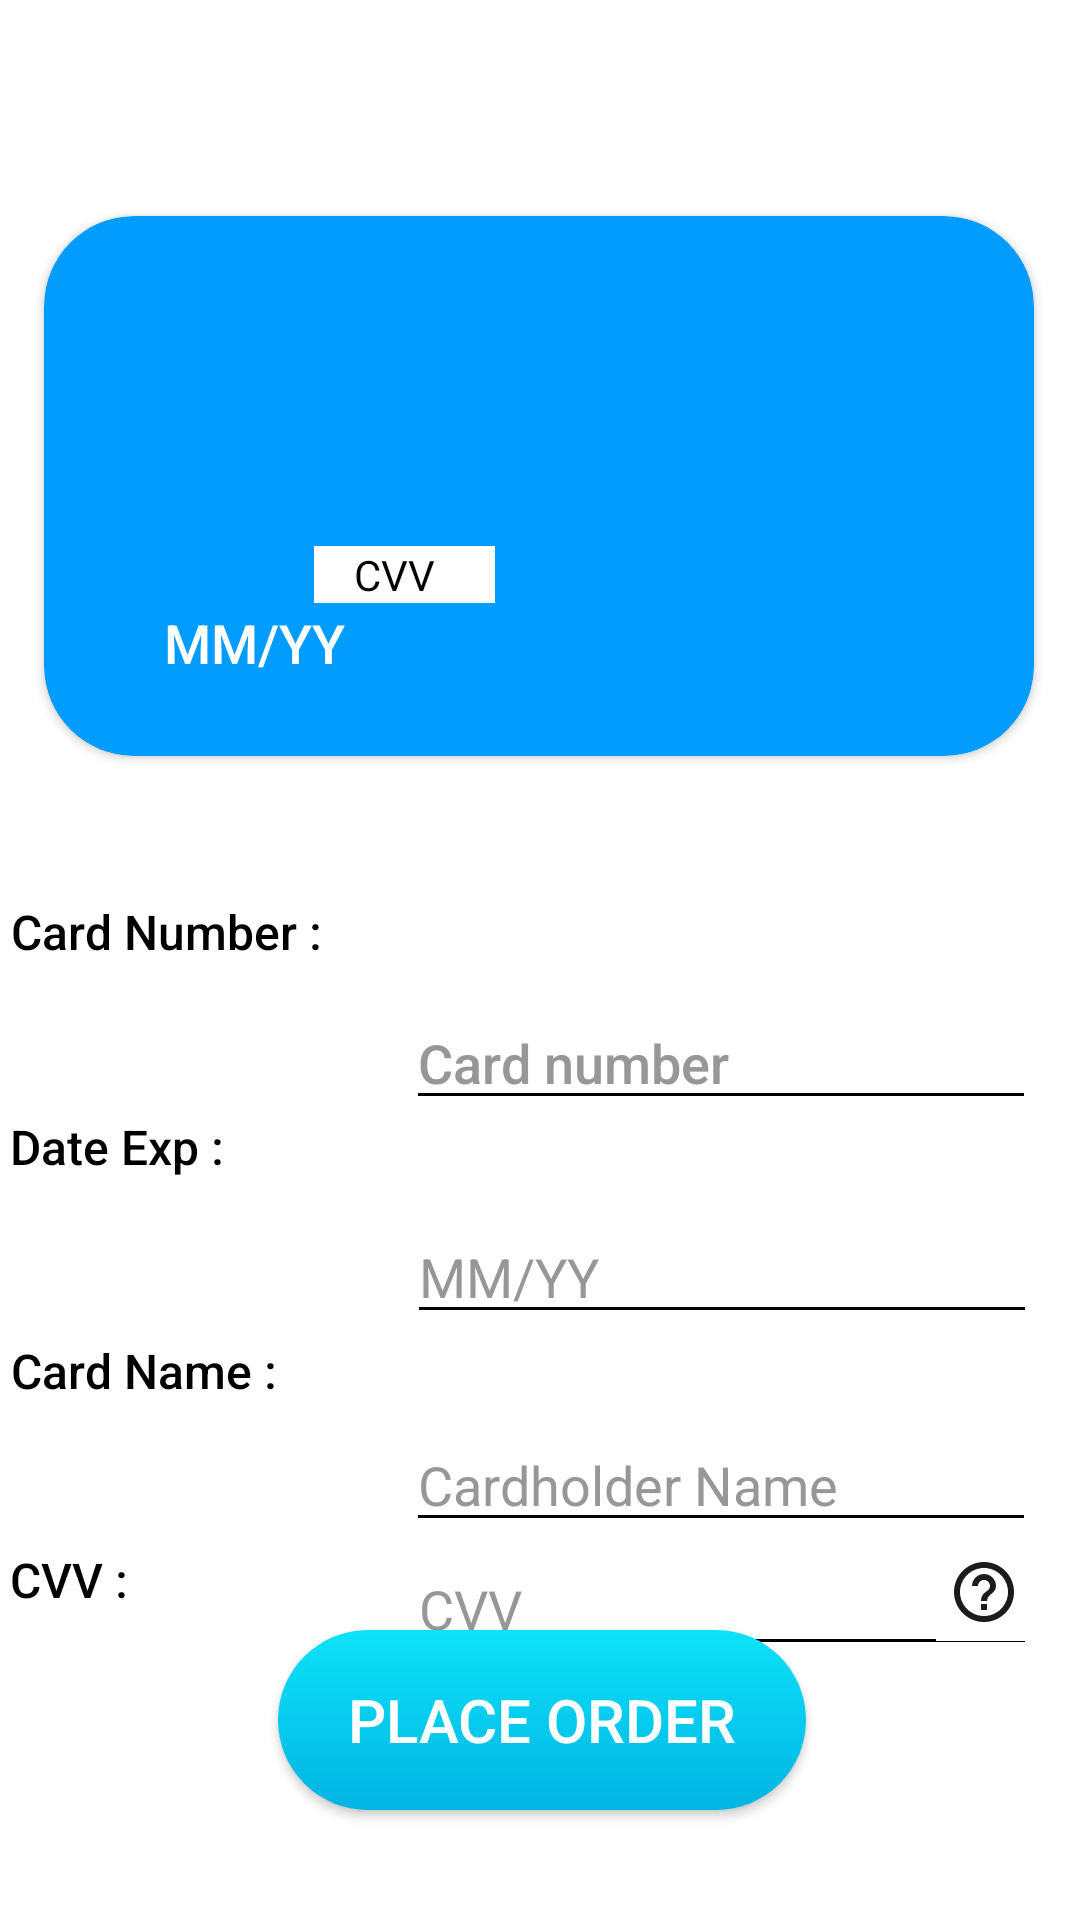

Where to tap for icons on this 1080*1920 app screen, as (x,y):
help output: (984,1592)
